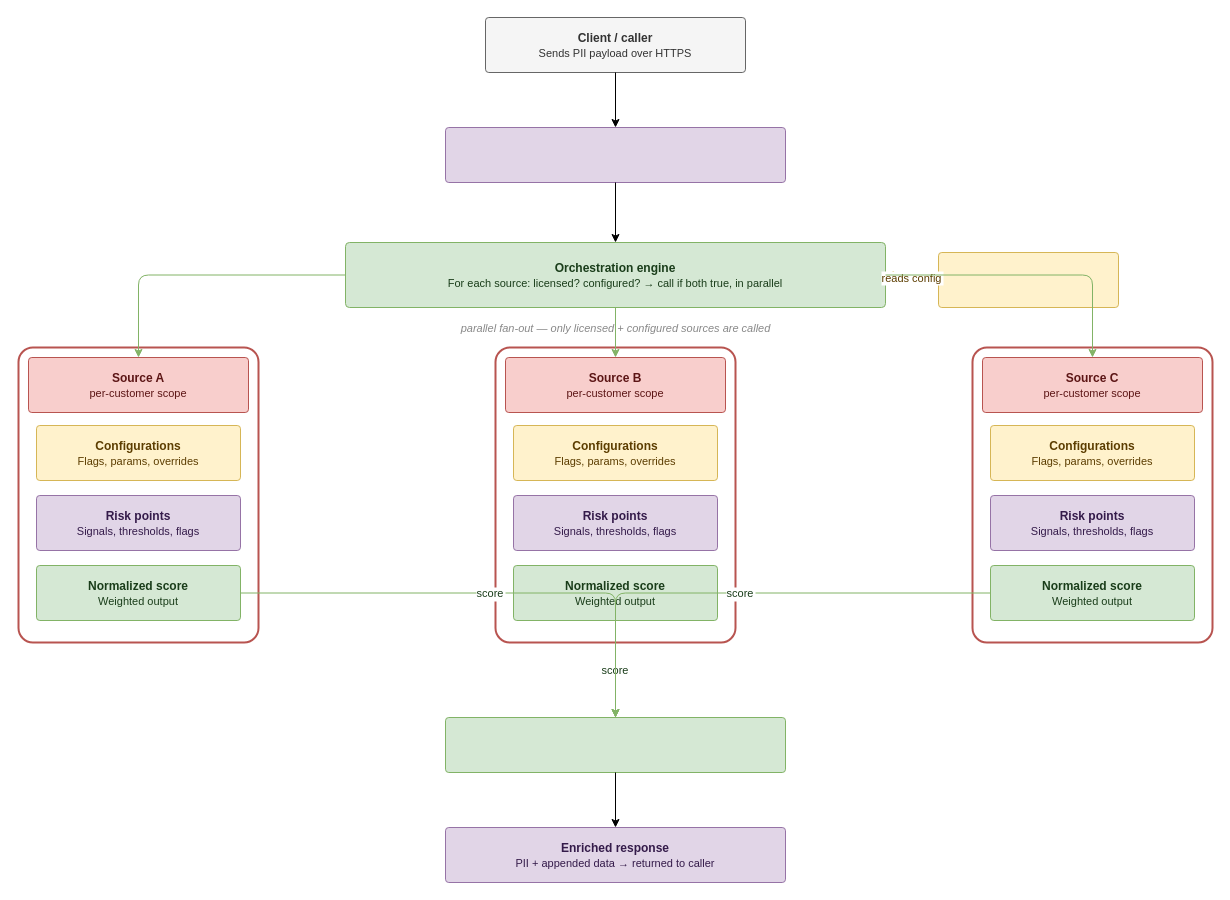
This 1230x900 diagram has some shape labels left out. Here are the shapes that lost their labels. From the top down, the centre of each, then its label:
At (615,154): "API entry point Auth, validation, rate-limiting".
At (1028,280): "Product config Per-customer flags".
At (615,744): "Response aggregator Merges normalized scores + data".
